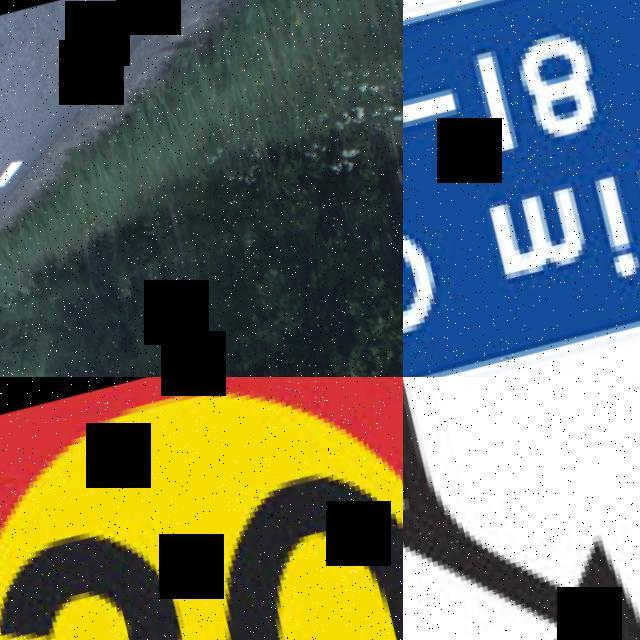120: (403, 0, 640, 377)
169: (403, 377, 640, 640)
speed limit-30: (0, 377, 403, 640)
